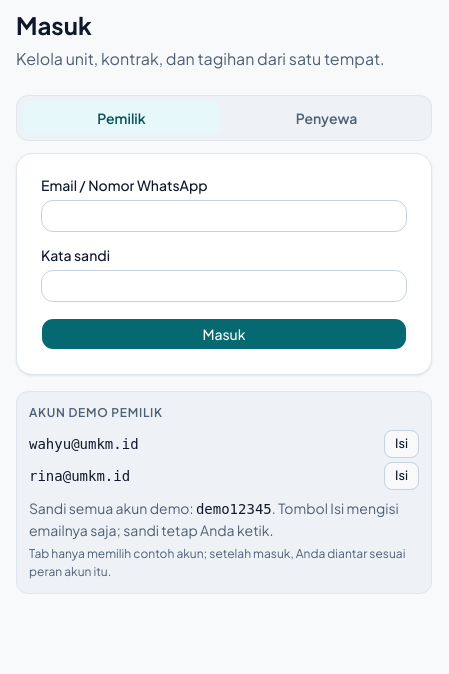
it: LoginPage › menampilkan pesan saat email tidak dikenal
Type "tidak@ada.id" into the field labelled "Email / Nomor WhatsApp" at {"x": 224, "y": 216}, box left=41, top=200, right=407, bottom=232
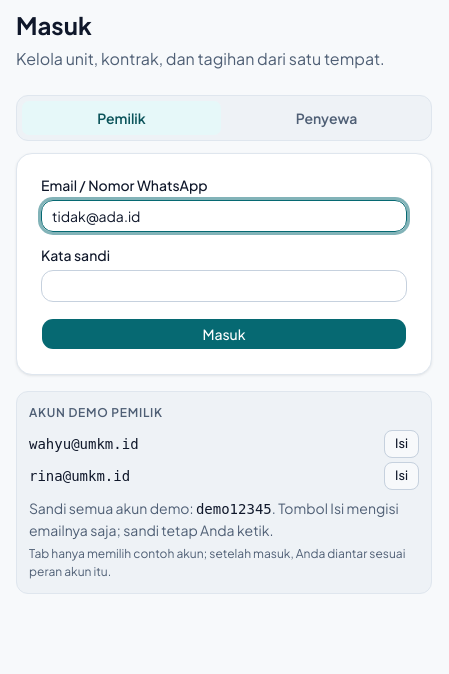
Type "rahasia123" into the password field labelled "Kata sandi" at {"x": 224, "y": 286}, box left=41, top=270, right=407, bottom=302
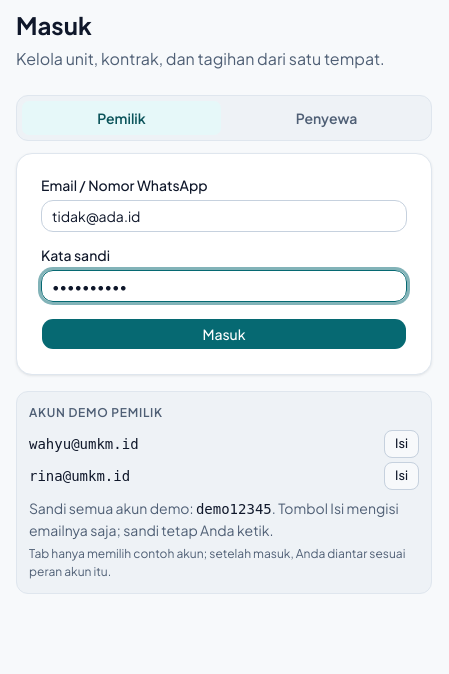
Click the button "Masuk" at {"x": 224, "y": 334}, box left=41, top=318, right=407, bottom=350
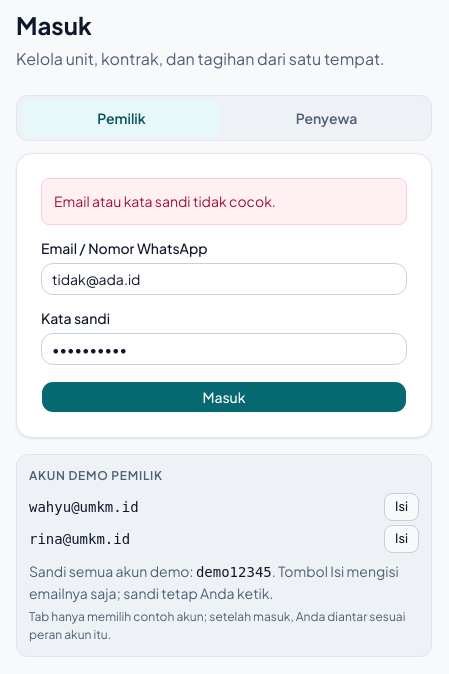
Check: the message shows "tidak cocok", box left=54, top=192, right=276, bottom=210
